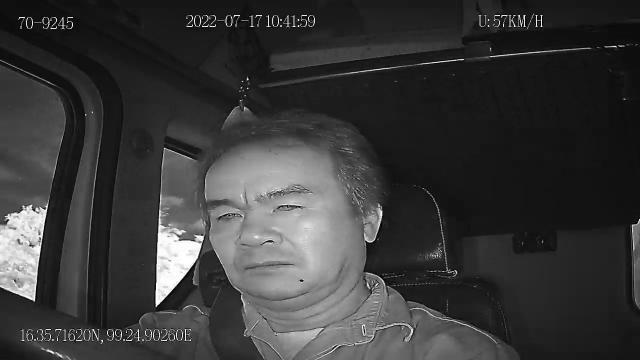SafeDriving: (266, 194, 314, 218), (208, 202, 248, 227)
Seatbelt: (208, 280, 266, 360)
